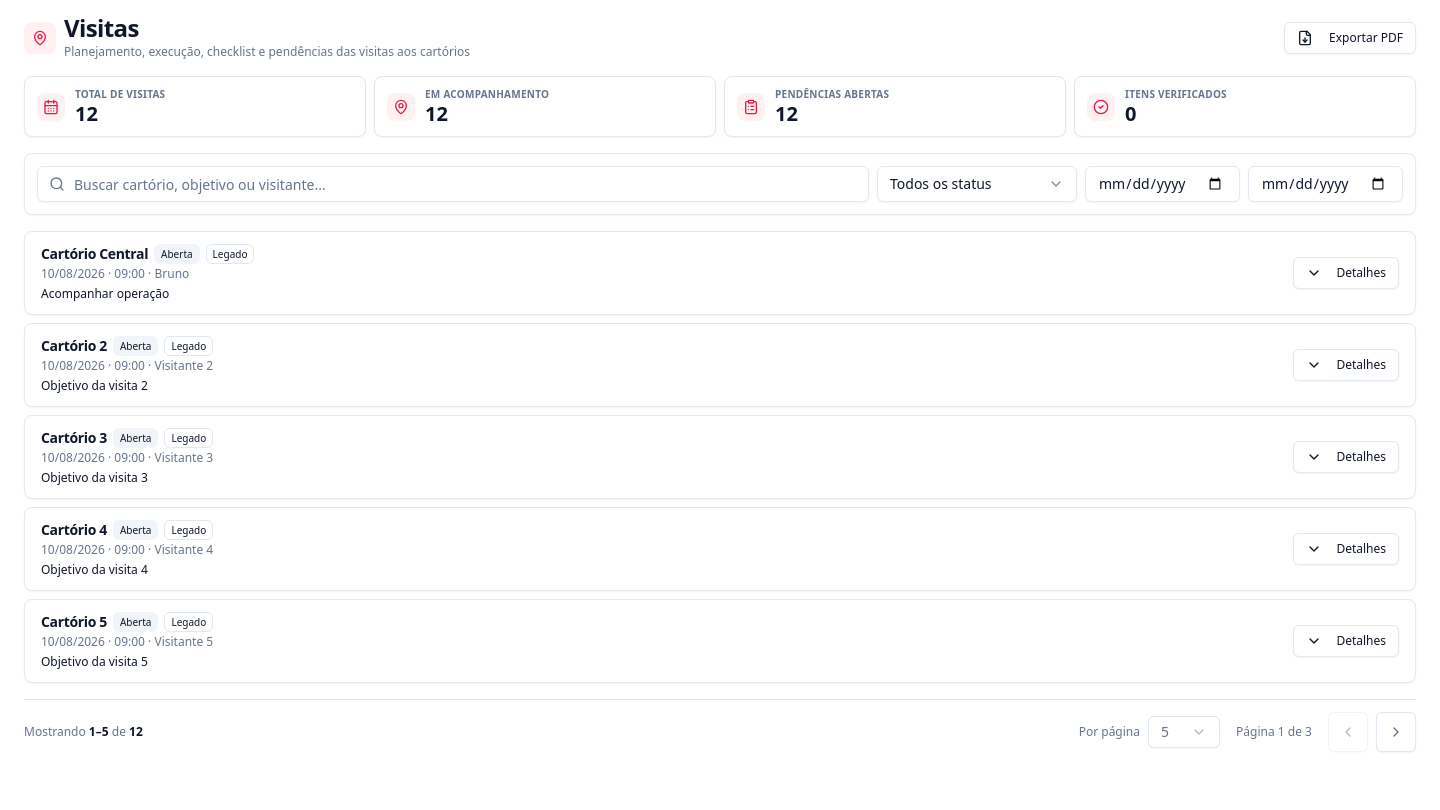
Test: CS/CX visitas, solicitações e NPS — permissões › pagina a lista de visitas em blocos compactos
This screenshot has width=1440, height=810.
Expected: the element named "Mostrando 1 a 5 de 12 visitas" is shown, [24,724,143,740]
Expected: the text "Objetivo da visita 6" is not shown
Step 1. Click the button named "próxima página" → (1396, 732), box [1376,712,1416,752]
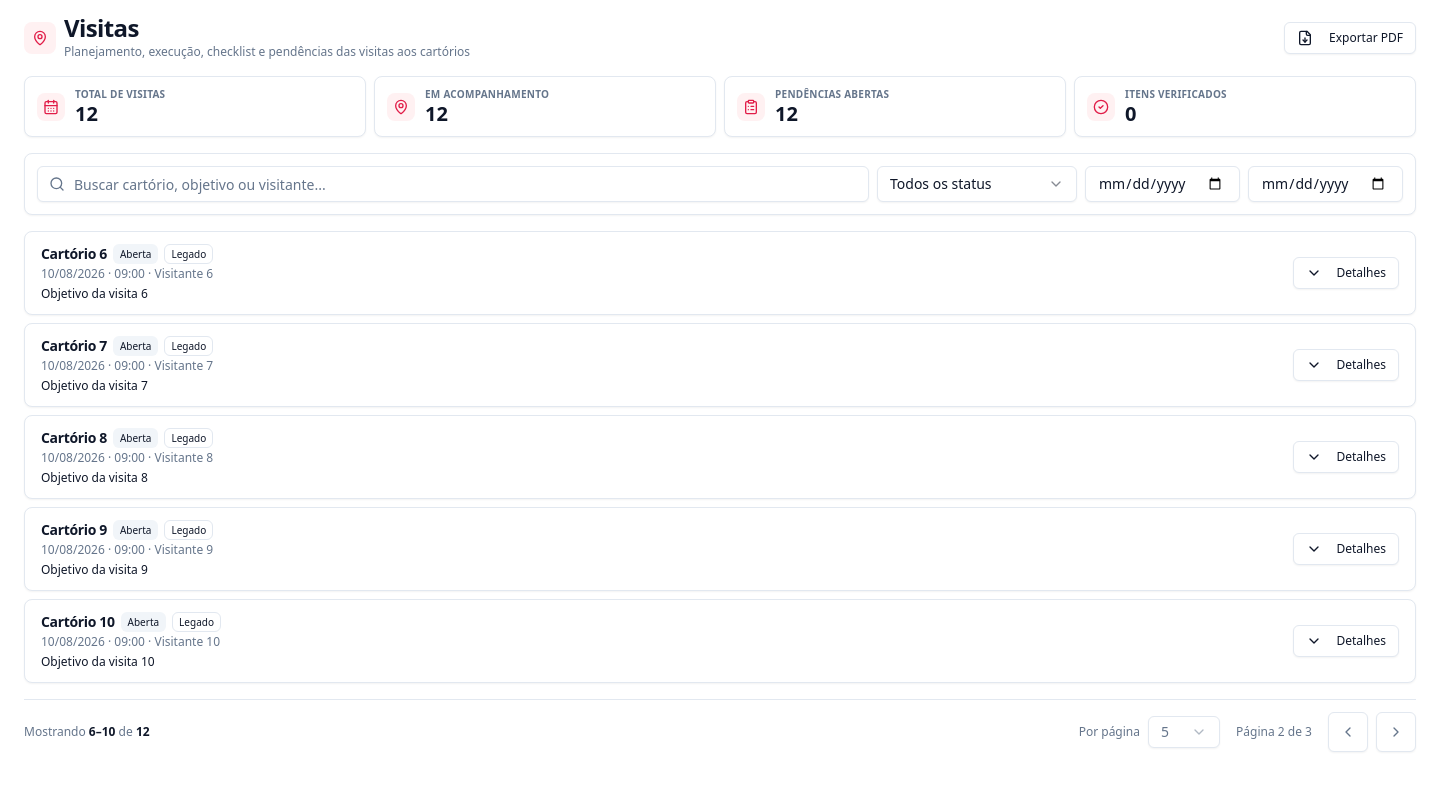
Expected: the text "Objetivo da visita 6" is shown, [41,285,148,302]
Expected: the element named "Mostrando 6 a 10 de 12 visitas" is shown, [24,724,150,740]
